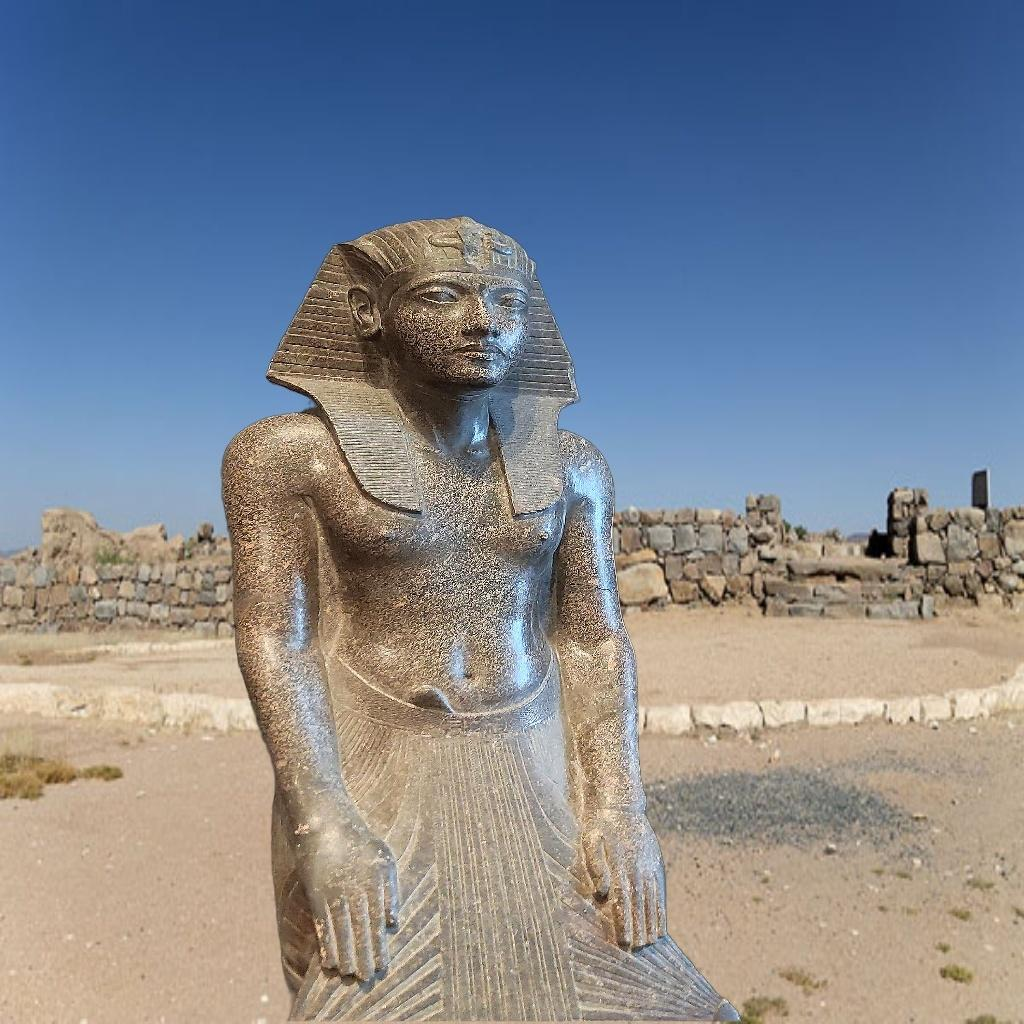Granite Statue of Tutankhamun: (216, 212, 744, 1022)
